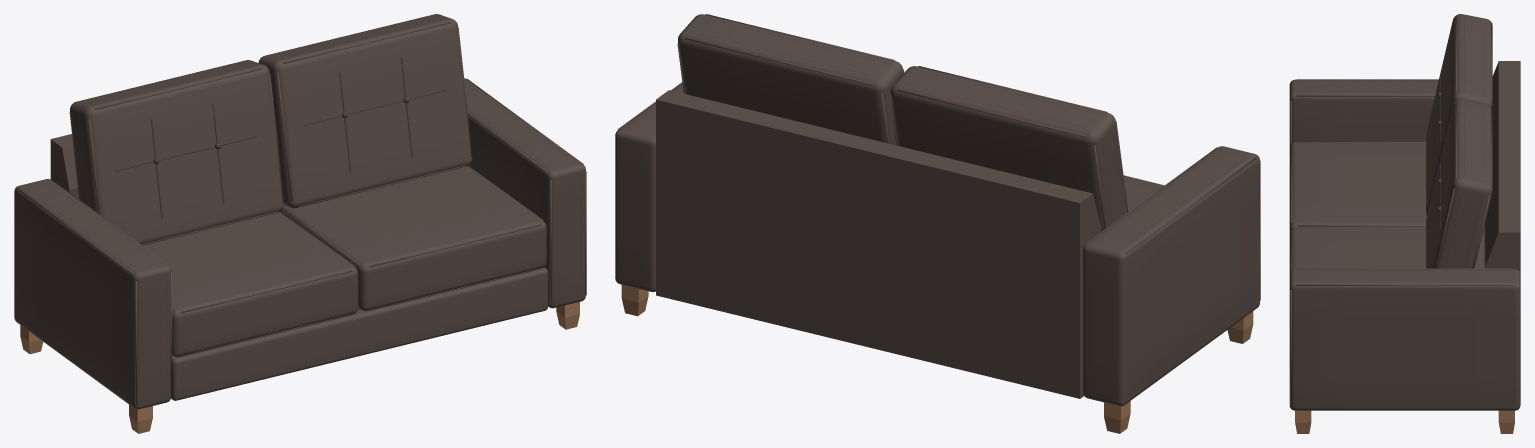
File: benza_180x85.glb
3 views of the same model, side by side, from view 1: azimuth 30°, elevation 25°; view 2: azimuth 150°, elevation 25°; view 3: azimuth 270°, elevation 25° (orthographic). The views are drawn at different scales.
Parts seen in each view (by area): view 1: p1, p2, p0; view 2: p1, p0, p2; view 3: p1, p2, p0.
Boxes of the visible parts, x1,y1,x2,y2 form: p1: (14,14,586,409); p2: (23,15,581,403); p0: (20,302,579,433); p1: (615,14,1260,406); p0: (621,285,1253,433); p2: (625,18,1248,249); p1: (1289,14,1520,410); p2: (1299,16,1512,270); p0: (1295,410,1514,433).
Size of the model in its own units: 1.8 by 0.9642 by 0.8506.
3 materials, 2 textured.
